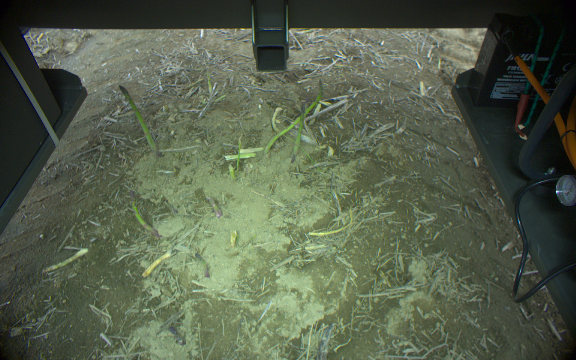aspa: (265, 78, 327, 153), (118, 85, 158, 156), (127, 190, 160, 240), (41, 246, 89, 275), (293, 98, 307, 156), (226, 162, 241, 183), (207, 195, 221, 217), (238, 145, 263, 155), (228, 154, 255, 161)
